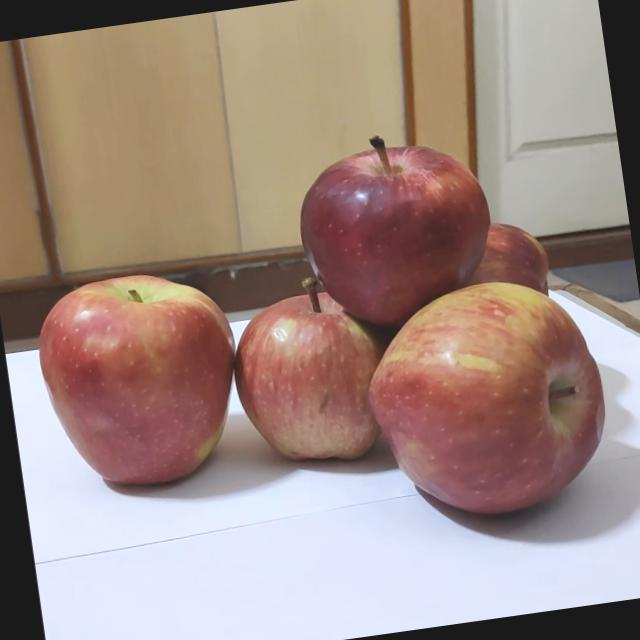apple: (350, 254, 630, 536), (0, 243, 265, 528), (270, 103, 514, 351), (209, 261, 415, 484), (378, 183, 589, 348)
